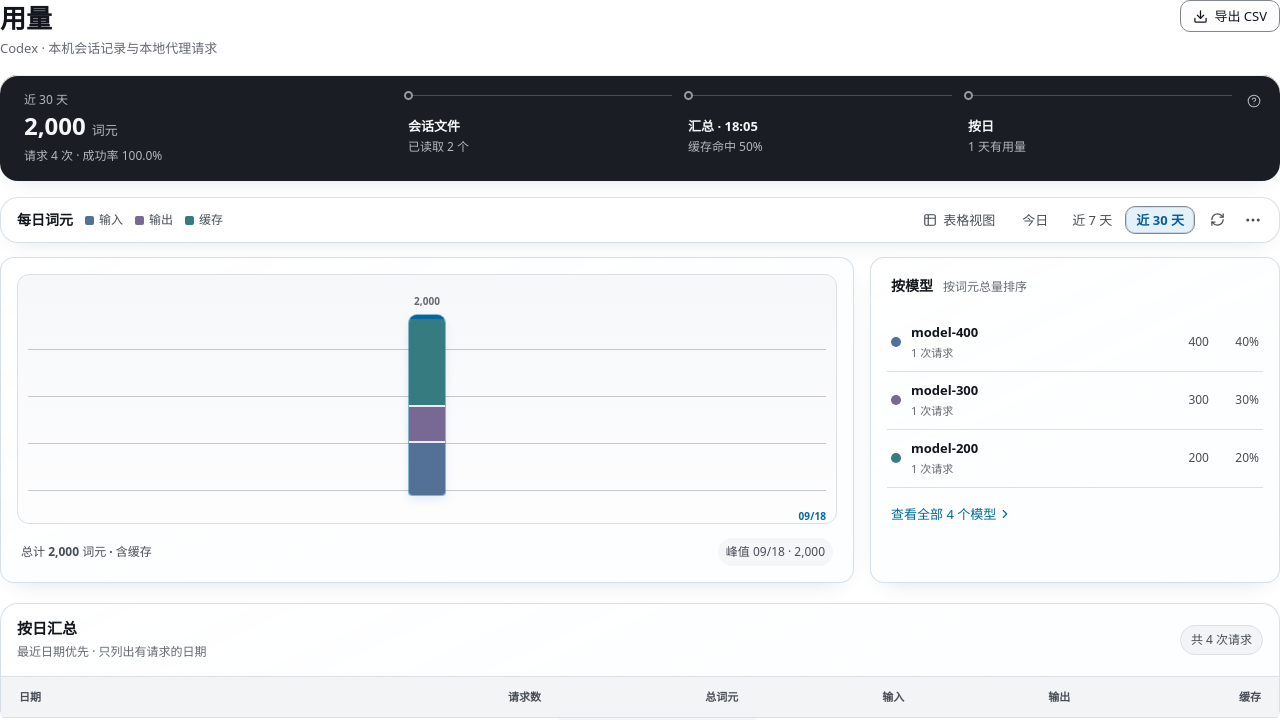
Scenario: UsageView › queries the same Codex window, includes cache, and uses all models as the ranking denominator
Expected: the button named "刷新用量" is enabled, [1201, 204, 1233, 236]
Expected: the element titled "2,000 词元" is shown, [24, 109, 118, 142]
Click the button "查看全部 4 个模型".
click(952, 514)  # box [887, 500, 1016, 528]
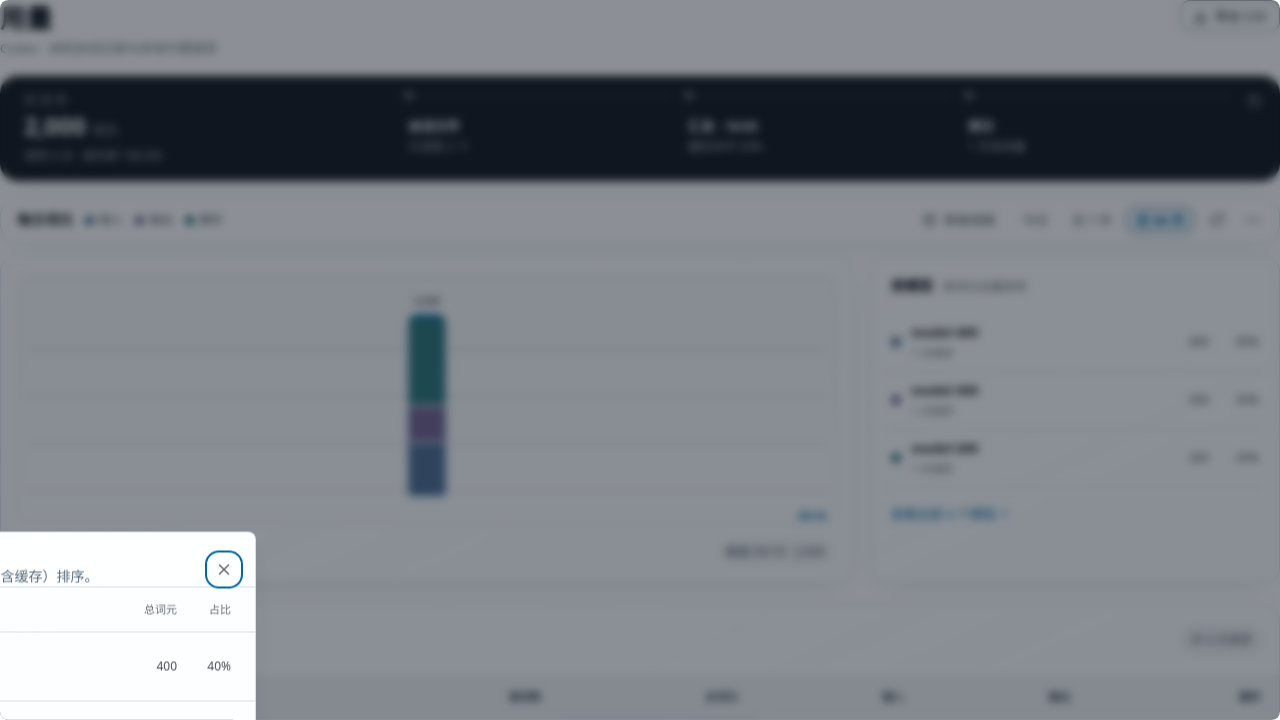
Click the button named "关闭模型排行".
click(224, 570)  # box [209, 554, 239, 584]
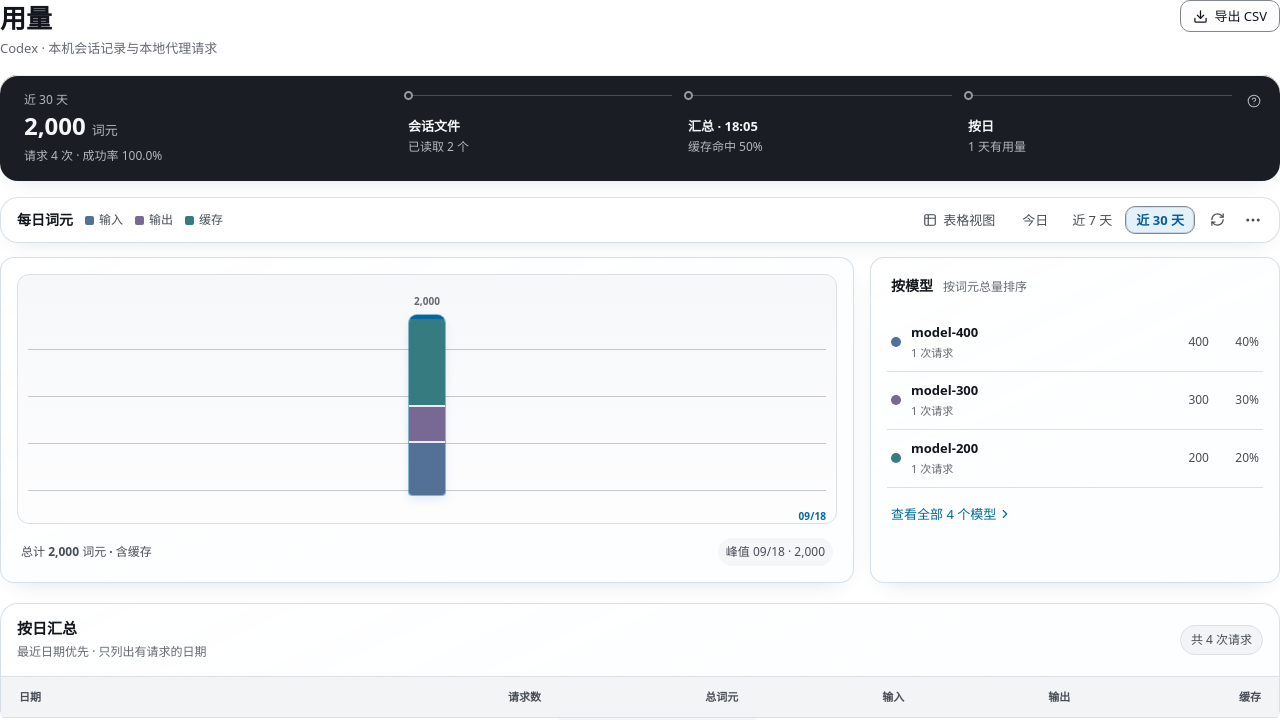
Result: the heading "全部模型排行" is gone
